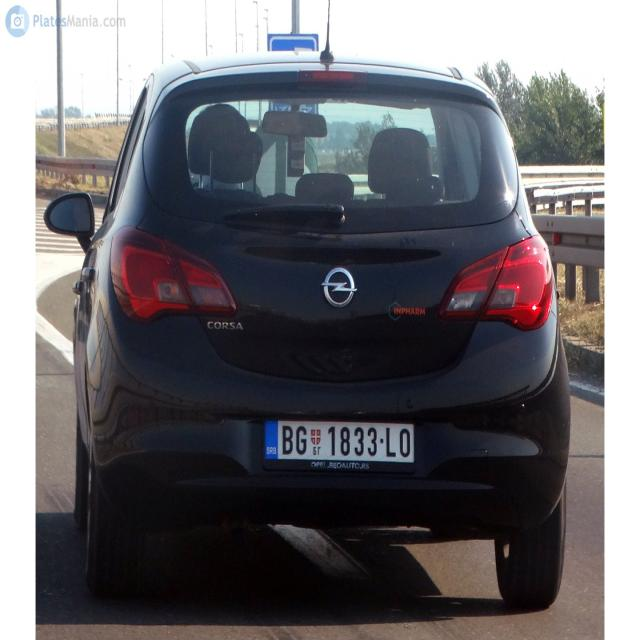License-plate: (265, 417, 414, 468)
